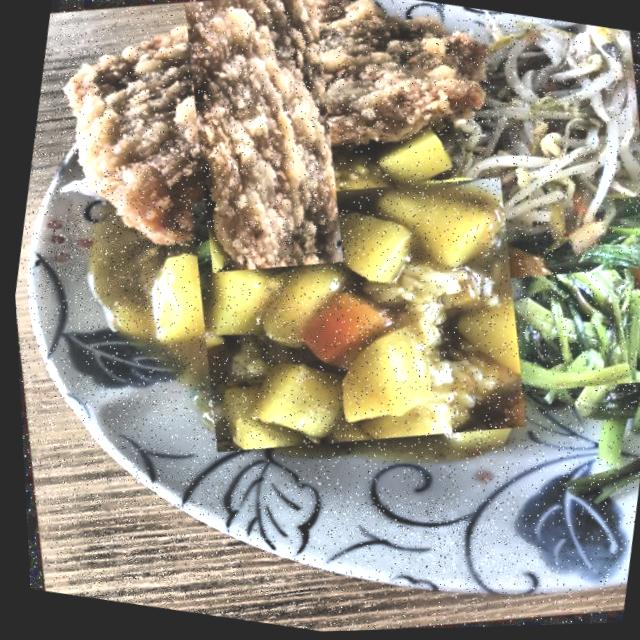Food: (142, 125, 565, 506), (90, 0, 427, 265), (455, 9, 640, 235), (493, 231, 640, 428)
